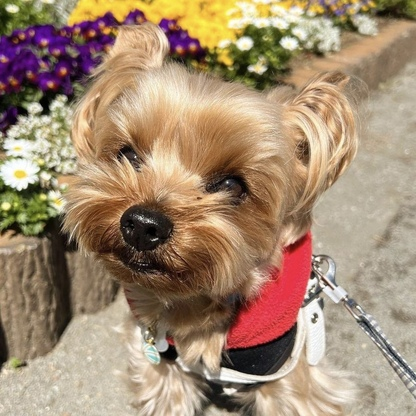yorkshire: (60, 22, 360, 303)
